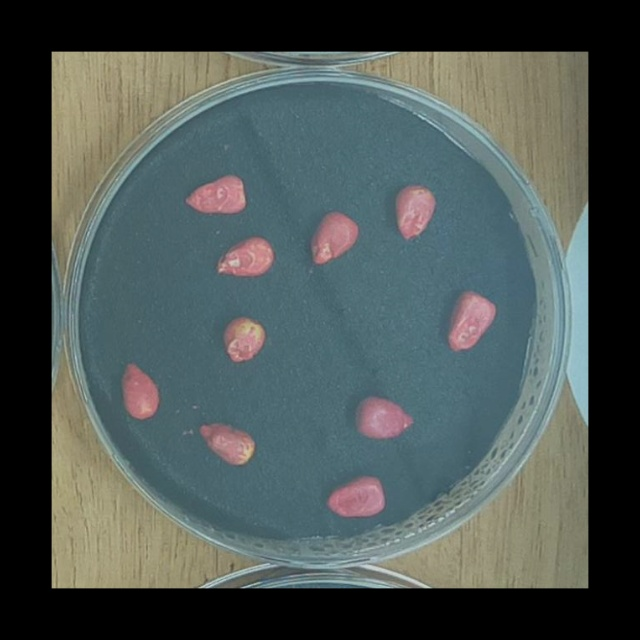Zea mays: (440, 283, 501, 356), (304, 204, 364, 271), (191, 413, 259, 471), (320, 468, 389, 522), (350, 390, 418, 444), (210, 229, 279, 282), (179, 169, 252, 219), (388, 176, 440, 243), (114, 355, 164, 424), (216, 310, 270, 367)
